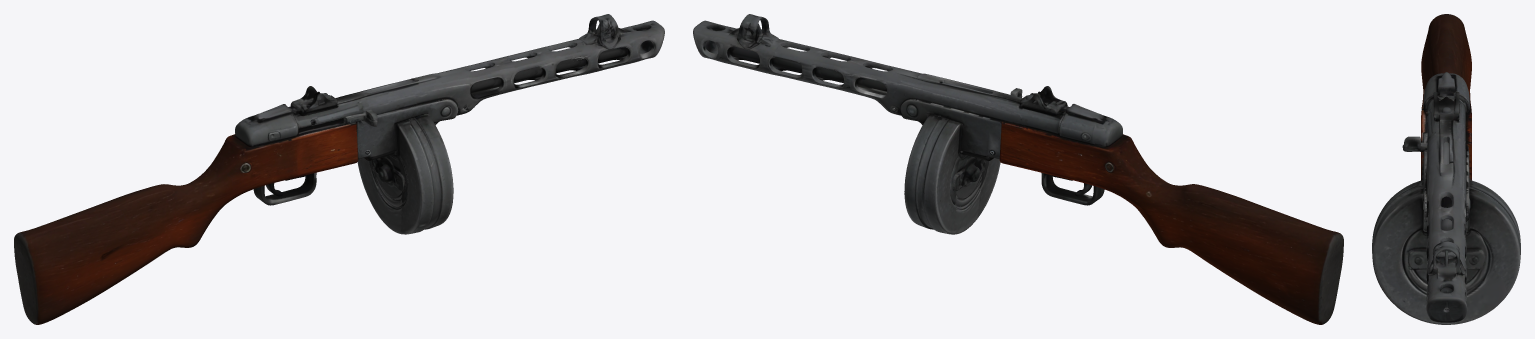
The model's file is 031-voennaya-vintovka.glb.
3 renders of one model, left to right at view 1: azimuth 30°, elevation 25°; view 2: azimuth 150°, elevation 25°; view 3: azimuth 270°, elevation 25°, orthographic. The views are drawn at different scales.
Parts seen in each view (by area): view 1: node_0; view 2: node_0; view 3: node_0.
Part boxes in pixels (left/top/right/bottom): node_0: left=14, top=14, right=664, bottom=324; node_0: left=693, top=14, right=1343, bottom=324; node_0: left=1372, top=14, right=1520, bottom=324.
Size of the model in its own units: 1.18 by 0.297 by 0.2139.
Materials: 1 (1 with a texture image).
